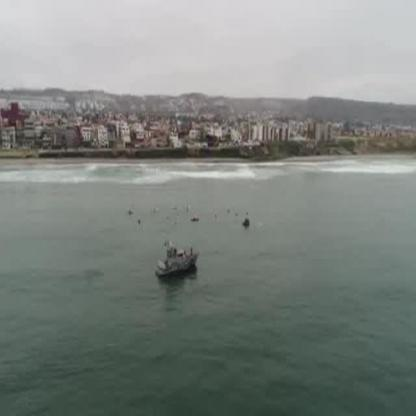Boat: (155, 250, 197, 282)
